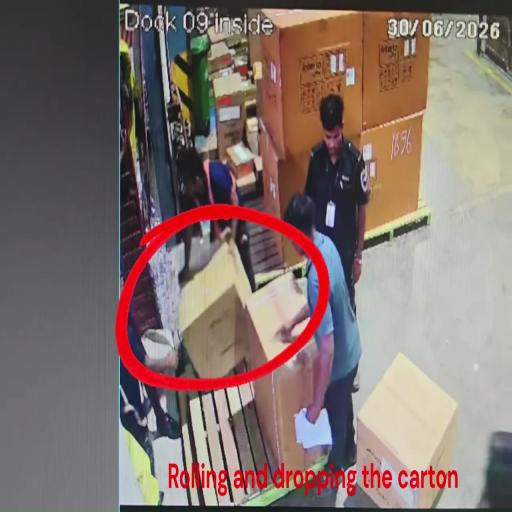carton: (242, 264, 331, 476), (354, 349, 462, 512), (256, 12, 362, 162), (178, 238, 254, 381), (359, 13, 435, 133), (357, 110, 424, 238), (256, 117, 312, 268), (216, 98, 247, 162), (212, 71, 248, 104), (226, 141, 254, 181)
pallet: (169, 367, 357, 512), (235, 192, 294, 288), (358, 206, 430, 250)
person: (275, 194, 363, 476), (304, 94, 372, 321), (174, 147, 256, 293), (120, 317, 182, 441)
